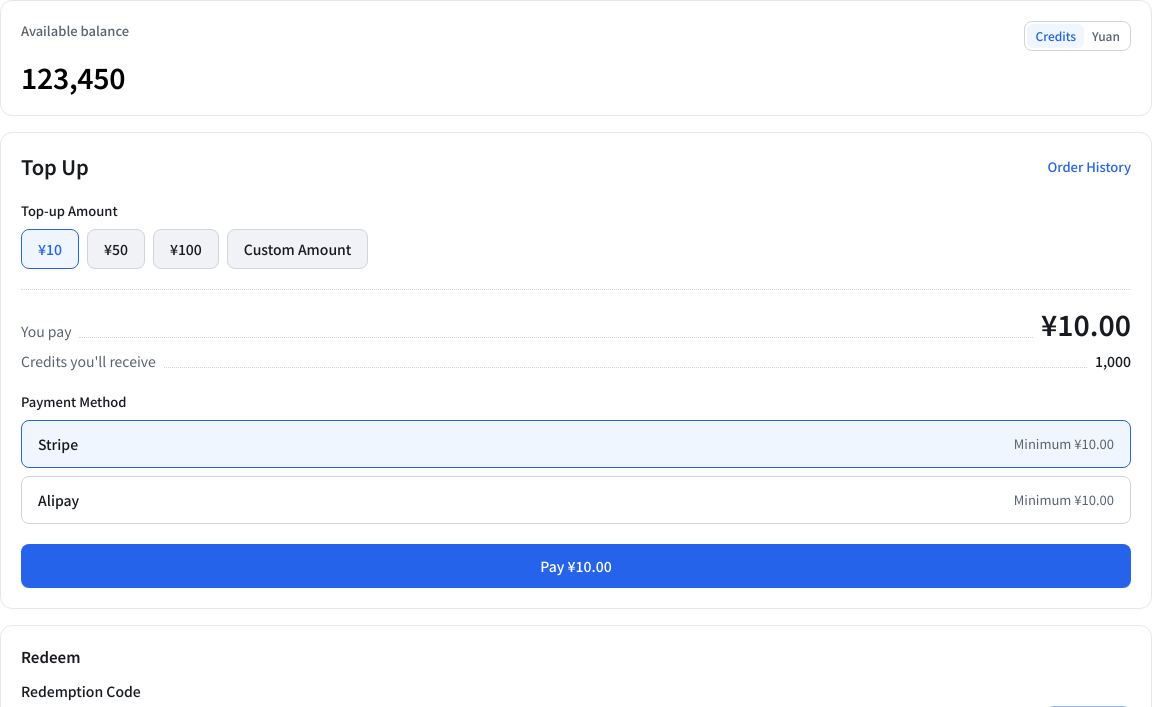
Test: TopupPage › seeds the balance from /api/wallet/summary and refetches after success
Expected: the text with test id "balance-value" reads "123,450", [21,57,125,97]
Click the radio button labelled "Alipay" at (59, 500), box [21,476,1131,524]
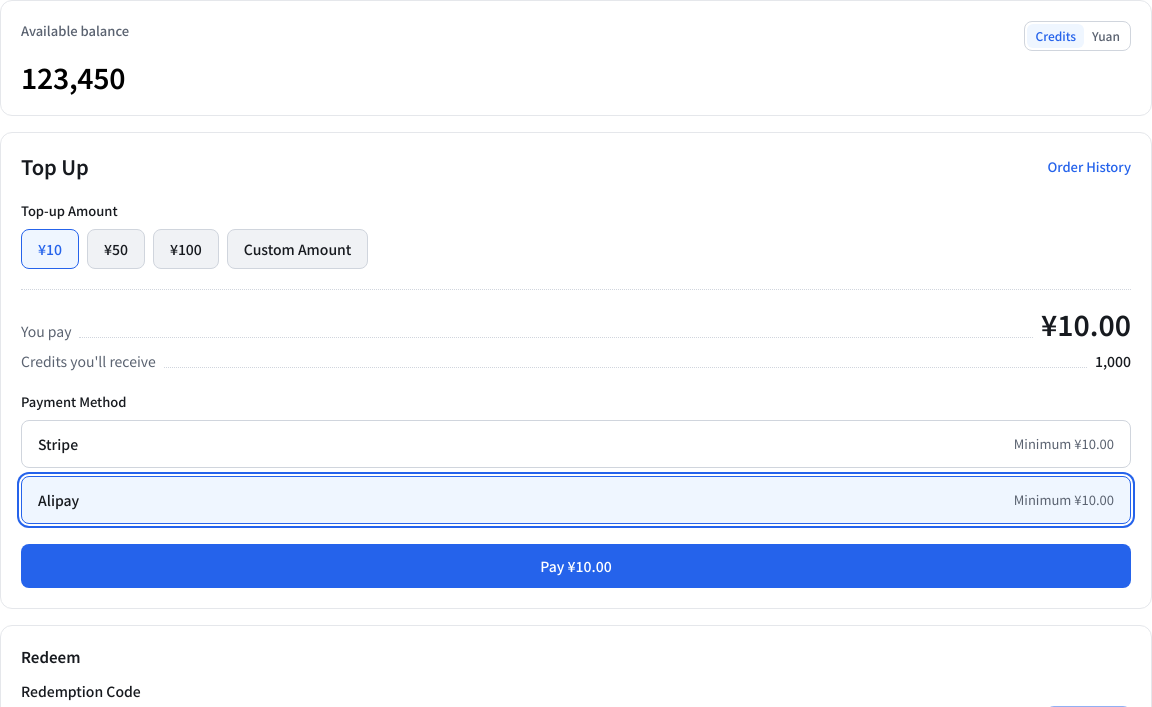
Click the button "Pay ¥10.00" at (576, 566), box [21,544,1131,588]
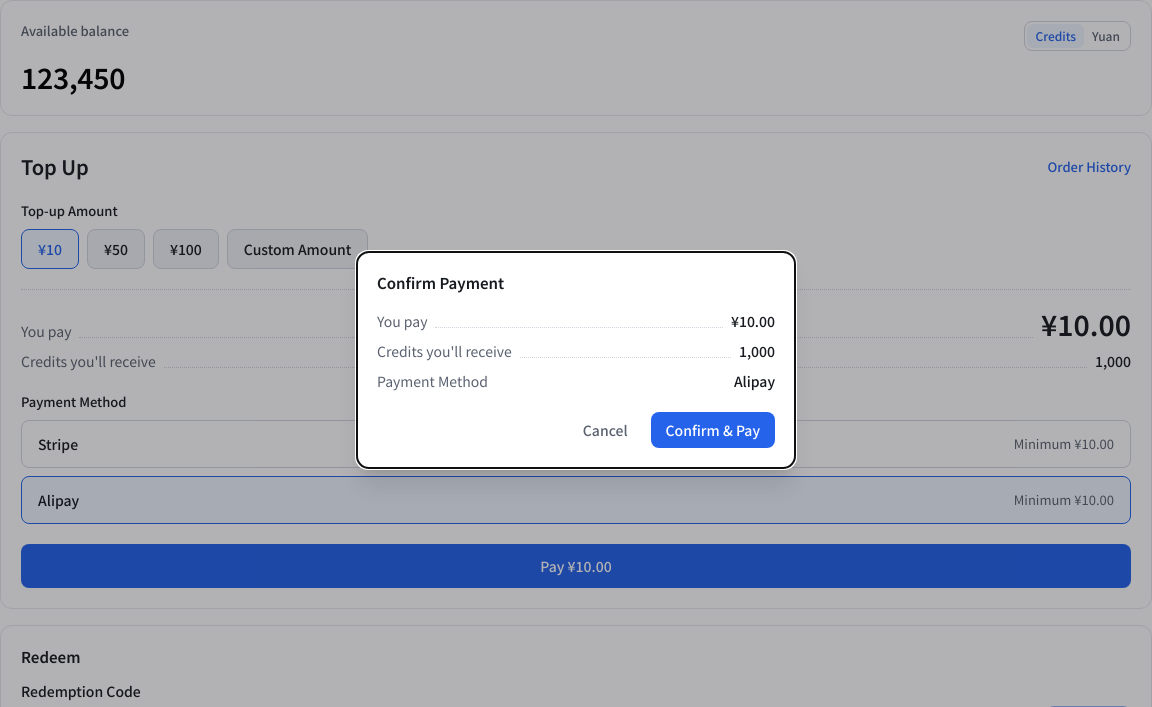
Click the button "Confirm & Pay" at (713, 430), box [651,412,775,448]
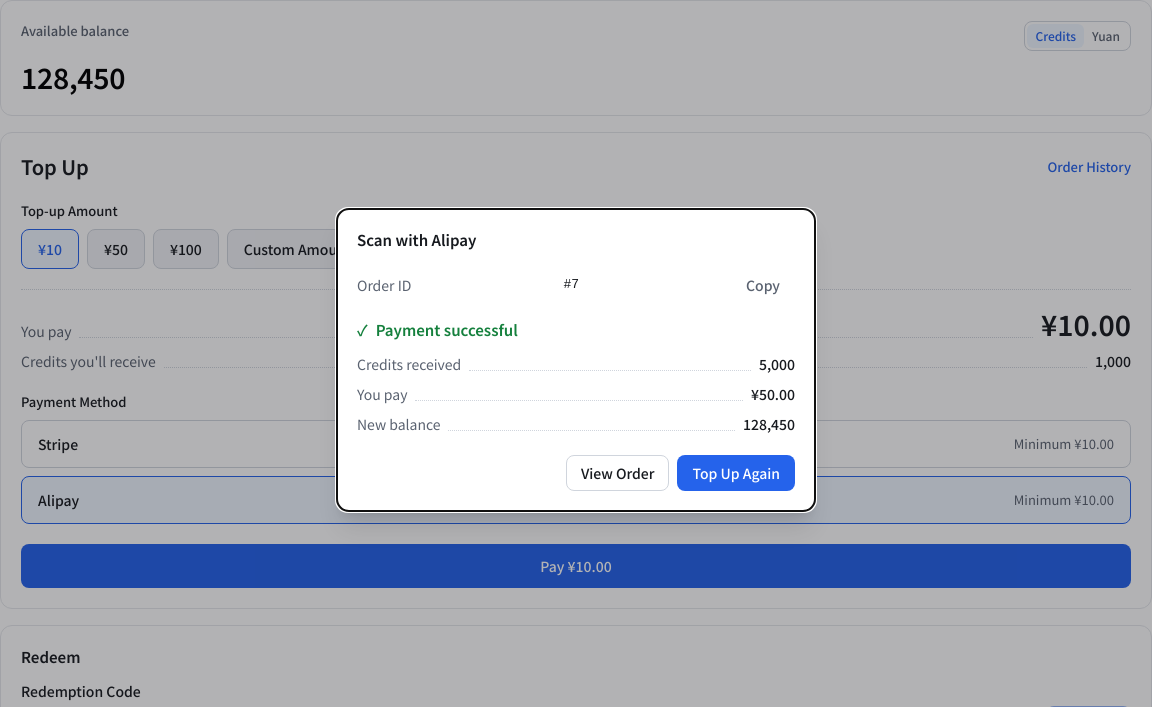
Expected: the text "Payment successful" is shown, [376,319,518,340]
Expected: the text with test id "balance-value" reads "128,450", [21,57,125,97]
